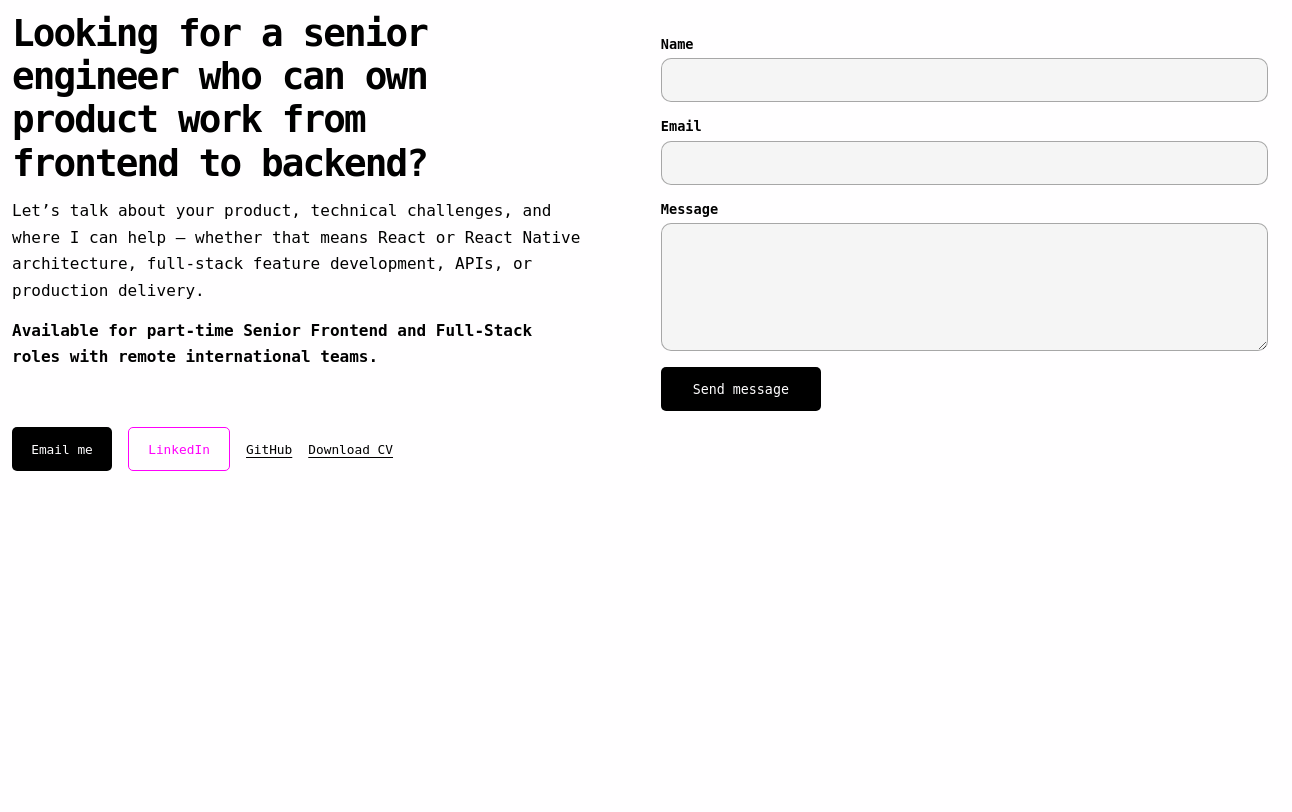
ContactForm › validates required fields and prevents empty submission
Step 1. Click the button "Send message" → click(741, 389), box [661,367,821,411]
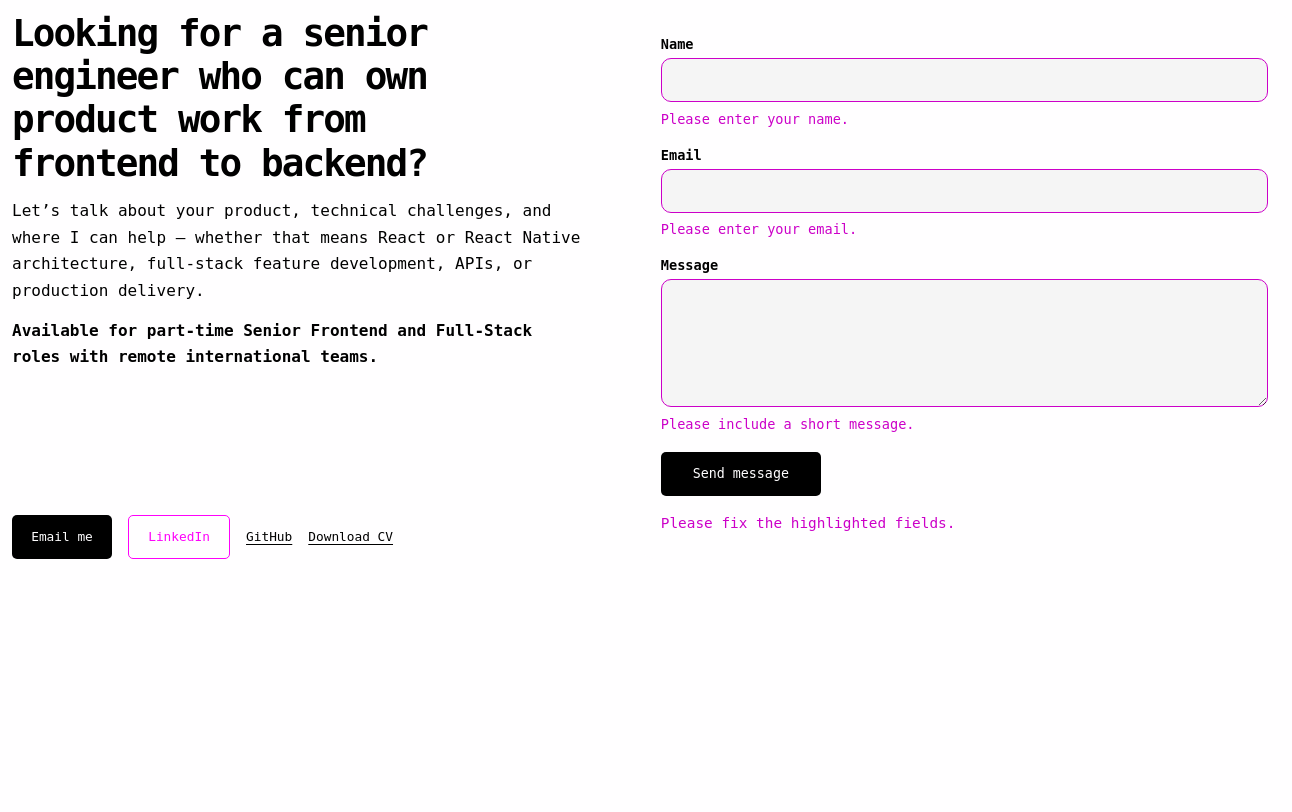
Expected: the text "Please enter your name." is shown, [661,111,849,127]
